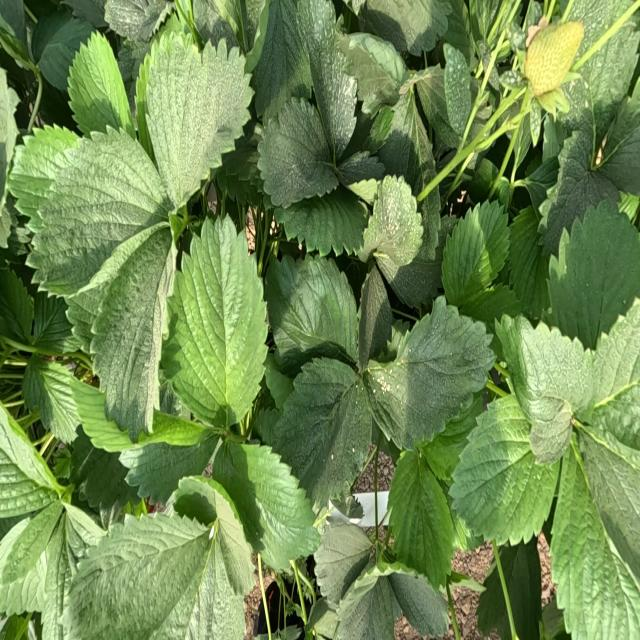Leaves: (28, 130, 170, 296), (138, 25, 252, 208), (168, 217, 266, 428), (63, 510, 209, 639), (91, 229, 172, 440), (550, 452, 640, 639), (266, 360, 372, 513), (451, 398, 558, 543), (497, 318, 592, 463), (212, 438, 315, 571), (402, 299, 494, 444), (549, 200, 639, 346), (265, 257, 358, 371), (561, 0, 640, 130), (578, 424, 640, 582), (580, 299, 640, 451), (297, 2, 355, 158), (388, 450, 454, 587), (121, 412, 217, 503), (258, 97, 337, 206), (543, 141, 619, 254), (0, 402, 64, 518), (41, 510, 97, 639), (442, 200, 509, 307), (380, 216, 457, 309), (252, 0, 311, 116), (275, 185, 368, 256), (8, 126, 79, 218), (68, 34, 130, 133), (377, 87, 435, 192), (420, 391, 484, 481), (0, 500, 64, 584), (23, 355, 80, 441), (361, 0, 450, 55), (314, 521, 371, 606), (32, 10, 91, 91), (344, 33, 402, 115), (0, 518, 47, 616), (71, 378, 134, 450), (508, 205, 549, 315), (565, 0, 635, 64), (374, 176, 423, 267), (184, 1, 266, 55), (499, 537, 542, 639), (362, 360, 409, 447), (388, 567, 447, 636), (599, 100, 640, 195), (337, 574, 395, 639), (358, 266, 391, 367), (415, 69, 457, 148), (28, 294, 81, 355), (66, 281, 109, 351), (1, 269, 34, 348), (476, 567, 511, 639), (105, 1, 169, 40), (445, 44, 472, 136), (1, 69, 18, 200), (85, 453, 126, 507), (338, 151, 385, 187)
Strawberries: (524, 21, 583, 96)
